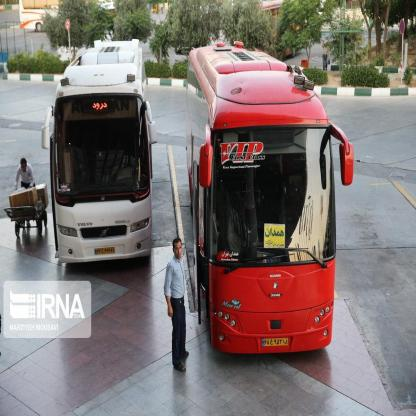Bus: (179, 35, 348, 357), (49, 34, 163, 266)
